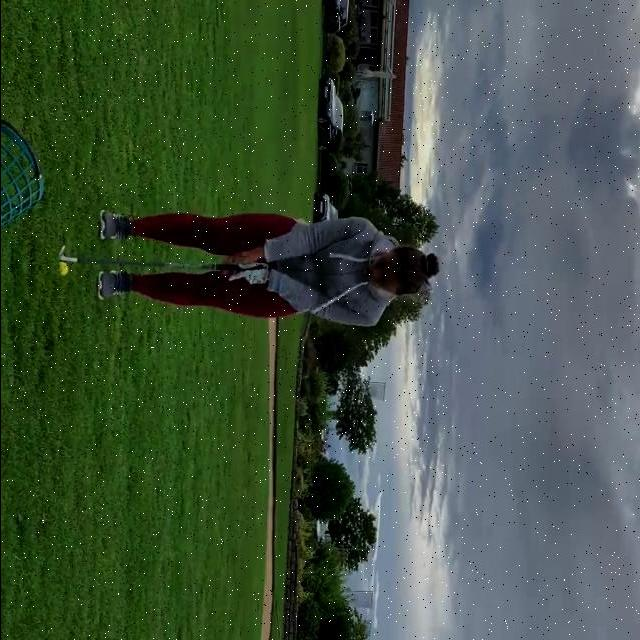ClubHandle: (57, 245, 265, 271)
ClubHead: (57, 246, 66, 259)
GolfBall: (57, 263, 67, 278)
